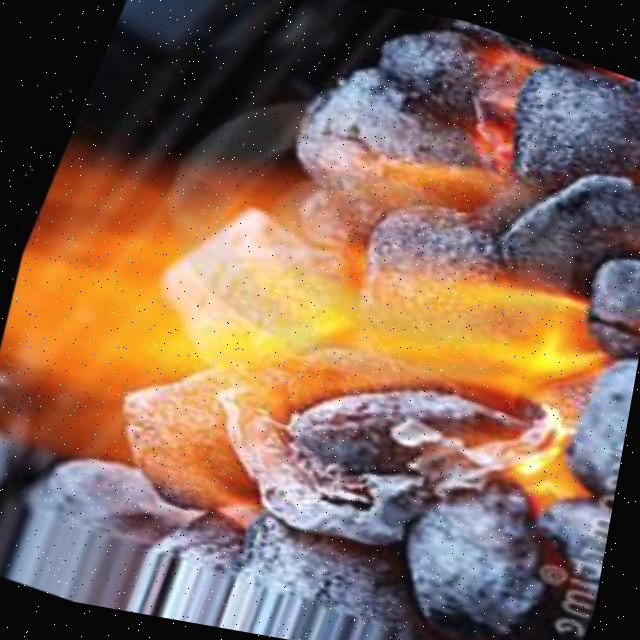fire: (44, 175, 605, 572)
